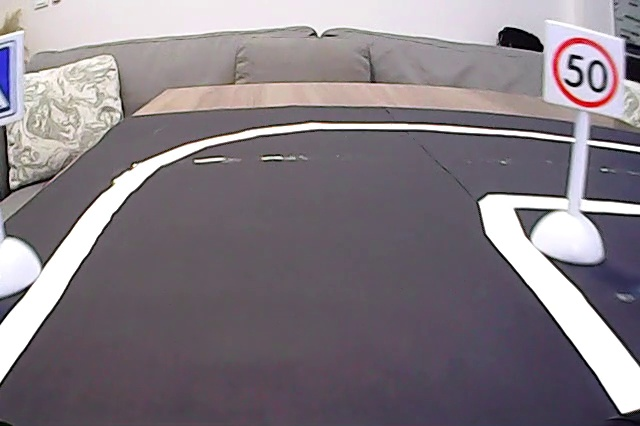speed limit 50: (547, 27, 622, 110)
